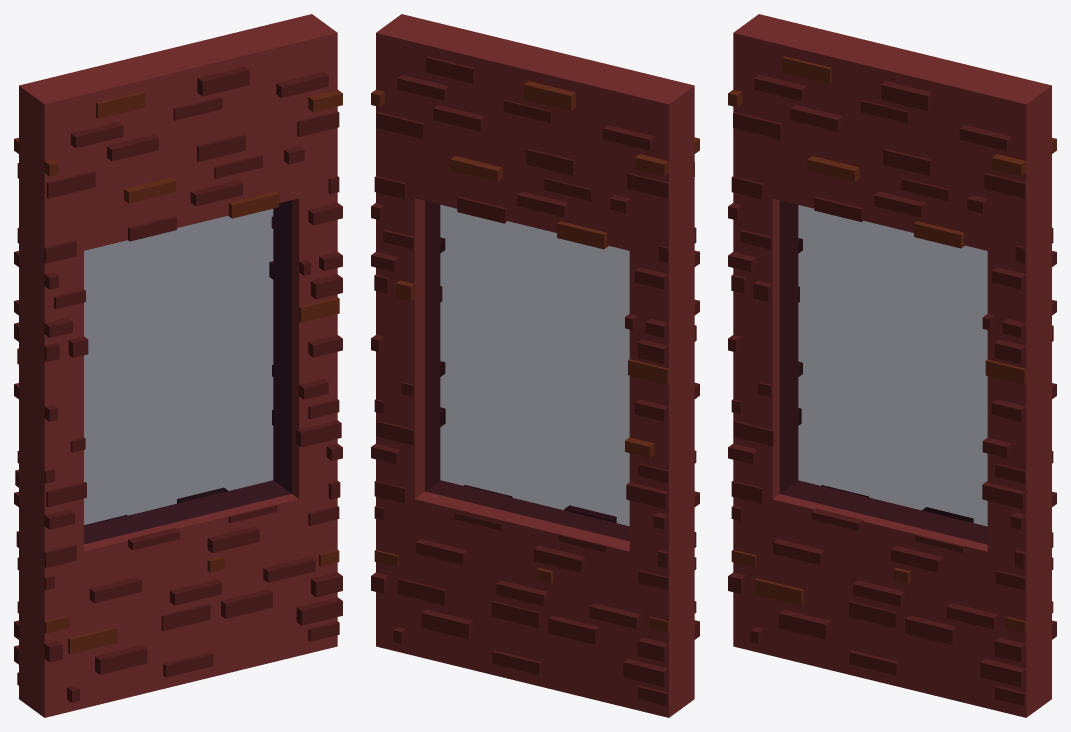
The model's file is BrickWindow.glb.
3 views of the same model, side by side, from view 1: azimuth 30°, elevation 25°; view 2: azimuth 150°, elevation 25°; view 3: azimuth 330°, elevation 25° (orthographic).
Parts seen in each view (by area): view 1: wall_brick_window; view 2: wall_brick_window; view 3: wall_brick_window.
Part boxes in pixels (bbox=[...]): wall_brick_window: bbox=[14, 14, 342, 717]; wall_brick_window: bbox=[371, 14, 699, 717]; wall_brick_window: bbox=[728, 14, 1056, 717].
Size of what is drawn, in the model's own units: 2 by 4 by 0.4206.
2 materials, 2 textured.
